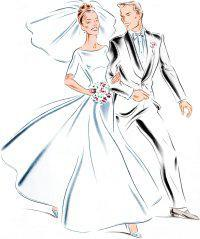person: (107, 1, 200, 225), (37, 3, 114, 234)
